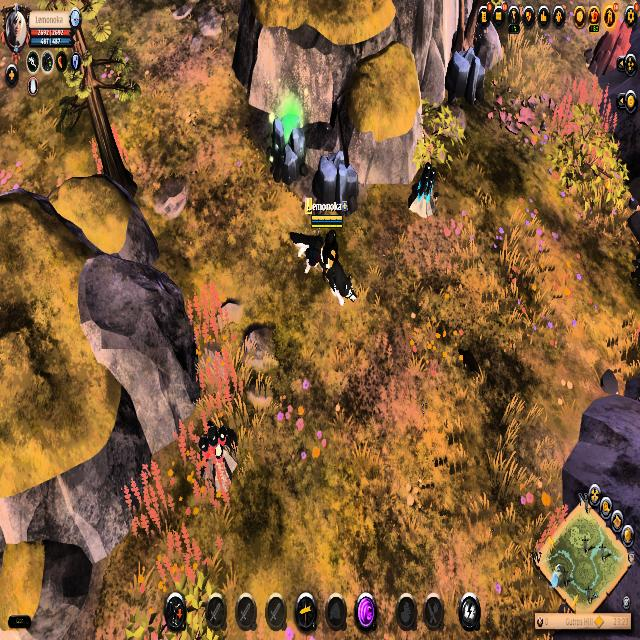ore tier 4: (407, 161, 440, 218)
ore tier 5: (195, 417, 239, 487)
rock tier 4: (310, 146, 359, 208), (444, 44, 488, 108)
